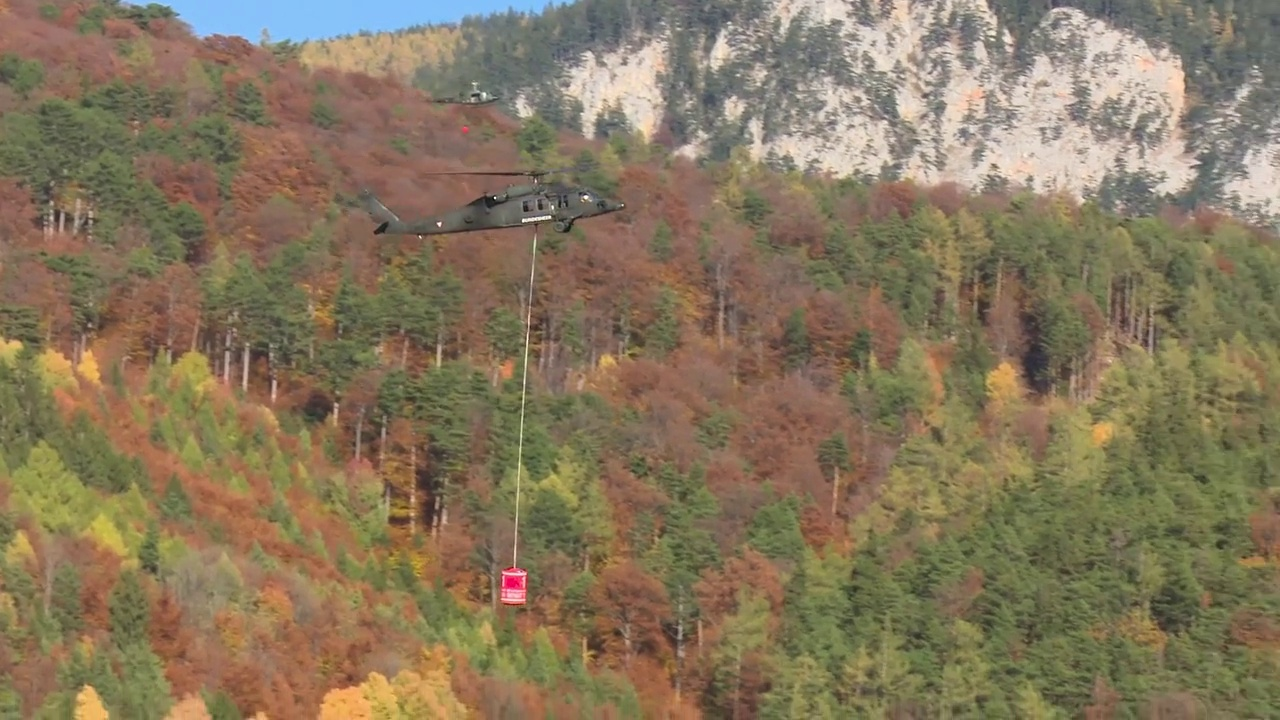heli: (364, 170, 624, 234), (422, 77, 498, 106)
